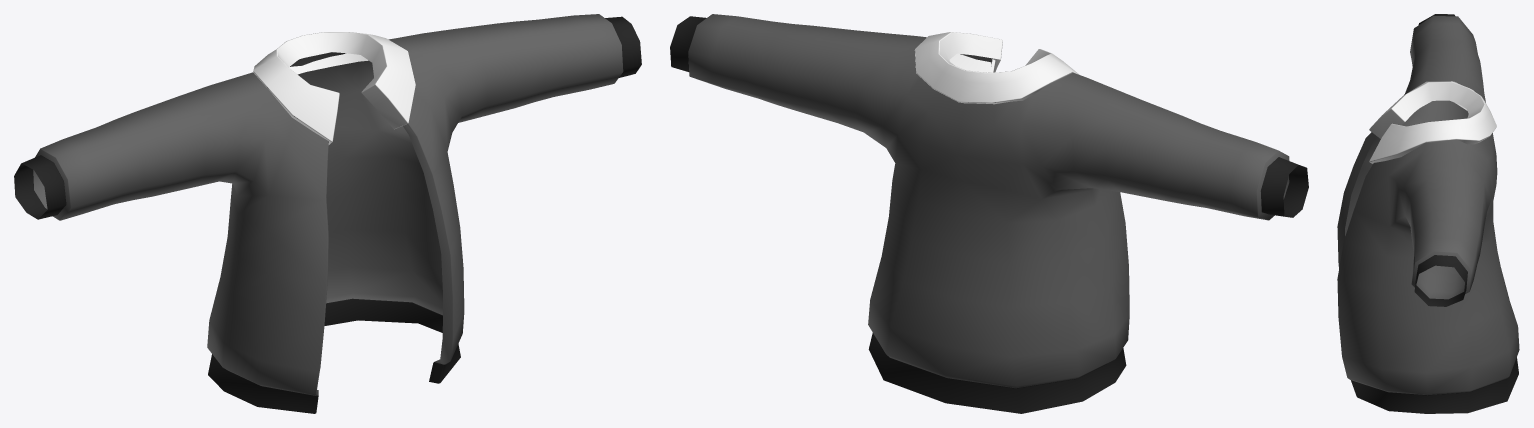
The model's file is Outerwear_Black_006.glb.
3 renders of one model, left to right at view 1: azimuth 30°, elevation 25°; view 2: azimuth 150°, elevation 25°; view 3: azimuth 270°, elevation 25°, orthographic. The views are drawn at different scales.
Parts seen in each view (by area): view 1: Outerwear_Black_006; view 2: Outerwear_Black_006; view 3: Outerwear_Black_006.
Part boxes in pixels (x1,y1,x2,y2): Outerwear_Black_006: [14, 14, 641, 413]; Outerwear_Black_006: [670, 14, 1308, 413]; Outerwear_Black_006: [1337, 14, 1519, 413].
Size of the model in its own units: 1.29 by 0.6459 by 0.3903.
1 material, 1 textured.
